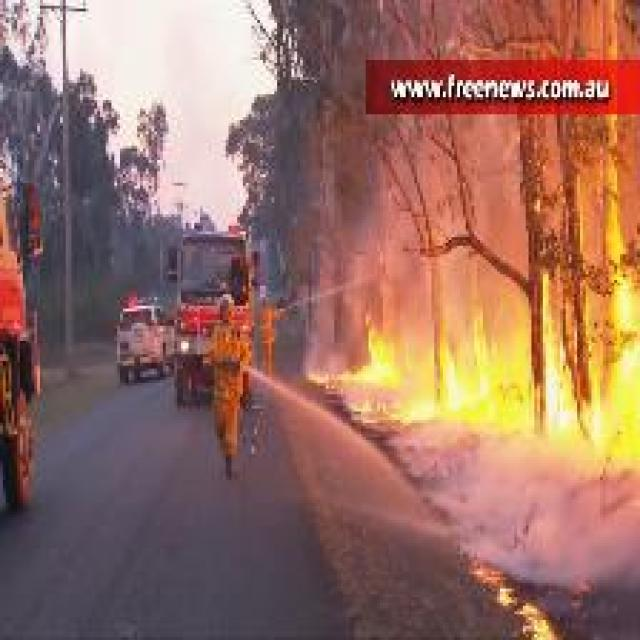fire: (315, 285, 634, 477)
other: (203, 316, 252, 472), (255, 294, 284, 385)
